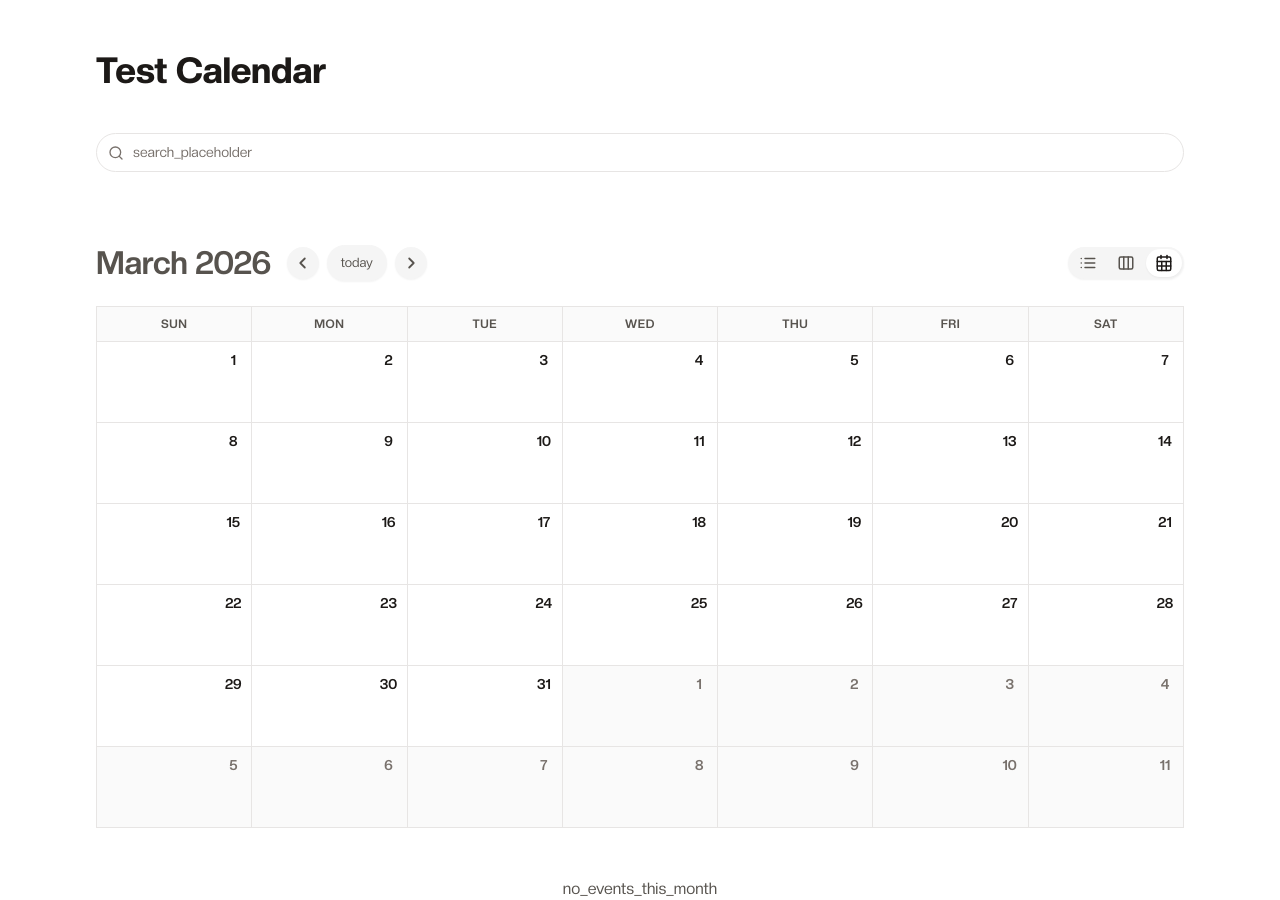
Test: calendar.vue - calendar views › restores the list filter when returning from the month to the list
Click the radio button named "view_list".
click(1088, 263)  # box [1070, 249, 1106, 277]
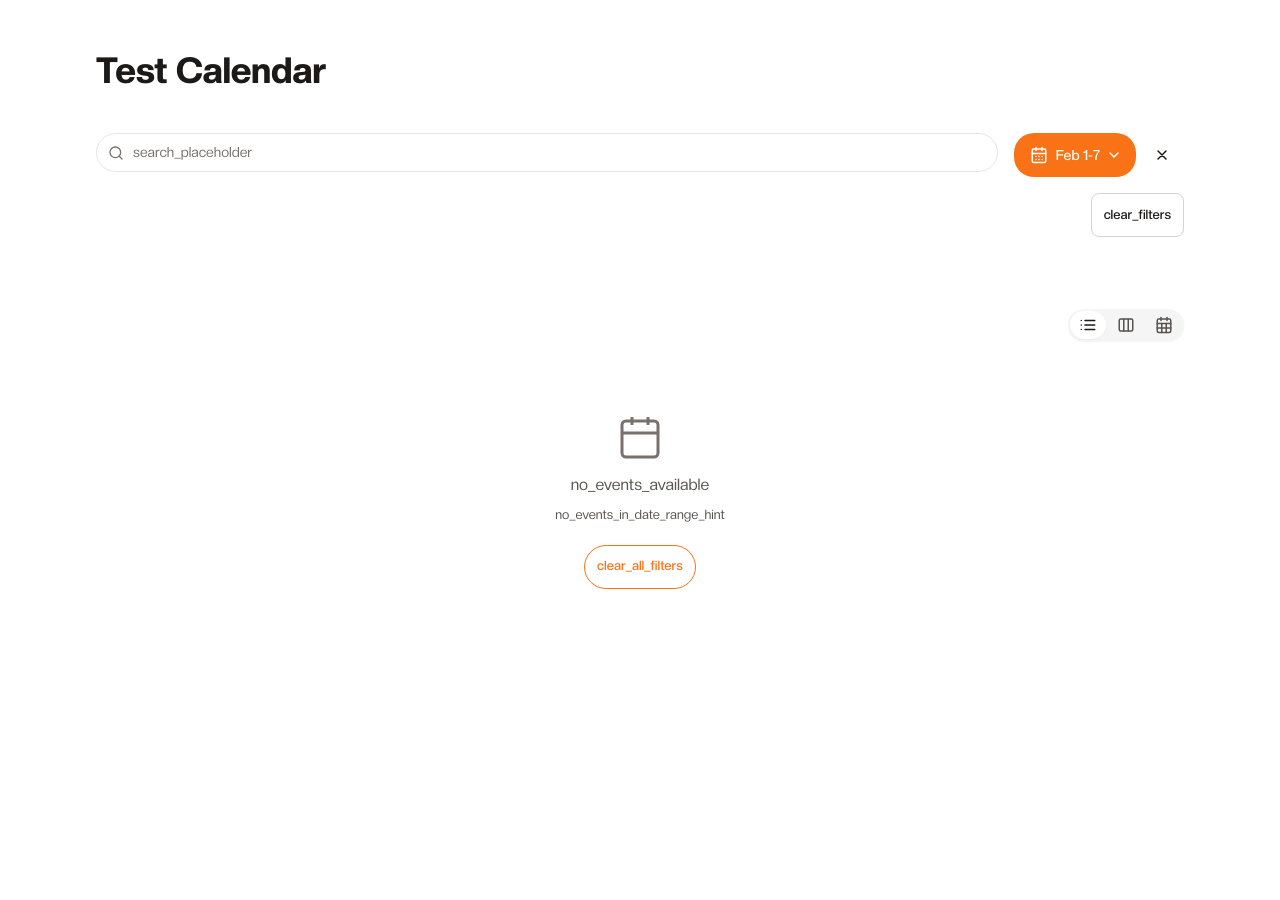
Expected: the element with class "date-range-section" is shown, [1014, 133, 1184, 177]
